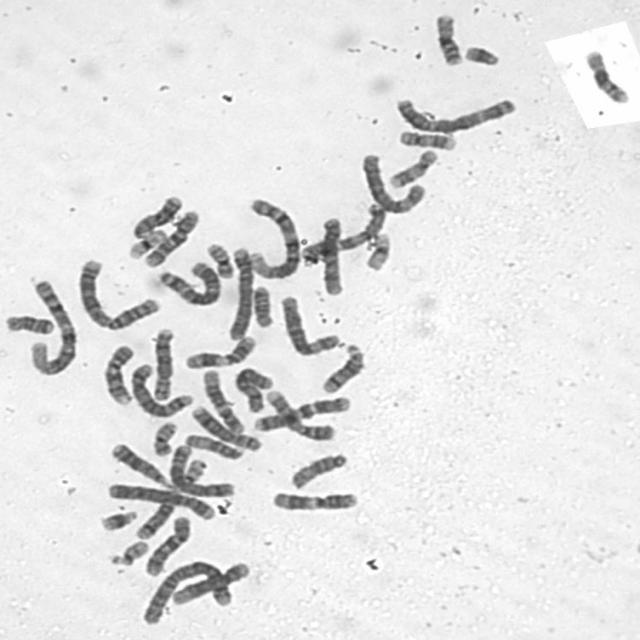A1: (23, 274, 80, 377), (243, 194, 303, 280)
A2: (73, 254, 162, 332), (138, 558, 235, 626)
A3: (391, 93, 518, 136), (154, 258, 224, 308)
B4: (104, 480, 216, 521), (224, 241, 254, 343)
B5: (126, 360, 197, 420), (168, 444, 236, 498)
C10: (140, 207, 202, 269), (142, 513, 192, 578)
C11: (182, 332, 258, 370), (268, 488, 361, 513)
C12: (168, 558, 252, 605), (199, 368, 246, 434)
C6: (358, 151, 428, 215), (276, 292, 342, 358)
C7: (297, 199, 389, 267), (251, 393, 351, 433)
C8: (188, 402, 265, 453), (149, 324, 177, 403)
C9: (261, 388, 338, 442), (100, 341, 137, 406)
D13: (108, 438, 174, 488), (128, 192, 186, 242)
D14: (318, 341, 368, 395), (136, 485, 181, 541)
D15: (286, 450, 351, 490), (181, 431, 247, 461)
E16: (580, 45, 632, 106), (431, 9, 467, 68)
E17: (385, 146, 440, 190), (395, 128, 459, 152)
E18: (0, 310, 57, 337), (248, 282, 276, 329)
F19: (124, 226, 170, 260), (362, 230, 393, 272)
F20: (202, 238, 236, 280), (149, 419, 180, 457)
G21: (95, 507, 140, 533), (460, 41, 503, 68)
G22: (106, 538, 150, 568), (182, 455, 208, 485)
X: (231, 363, 276, 414), (320, 216, 346, 297)
